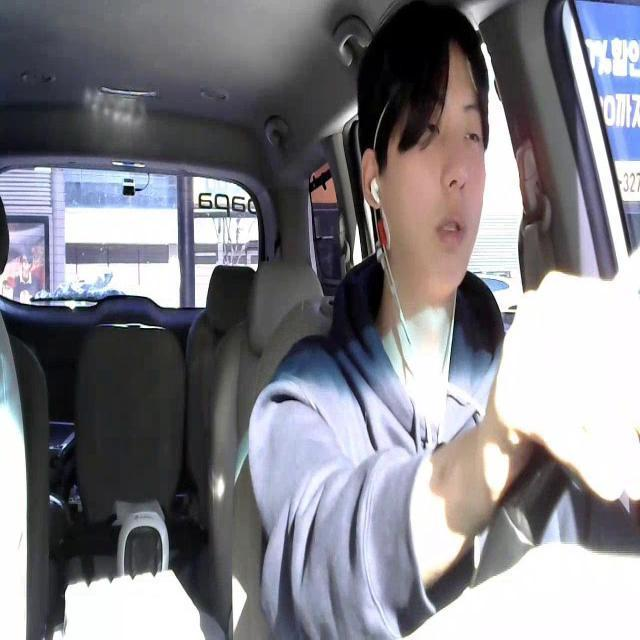Attentive: (358, 0, 489, 290)
